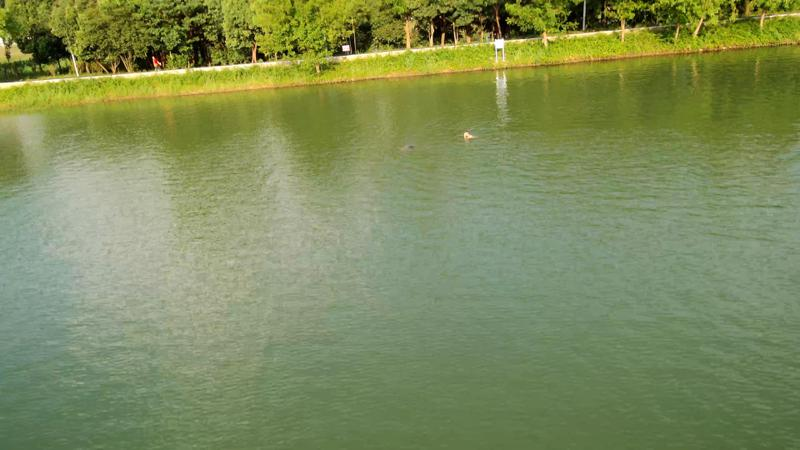passerby: (149, 54, 162, 71)
swimmers: (462, 128, 479, 141)
